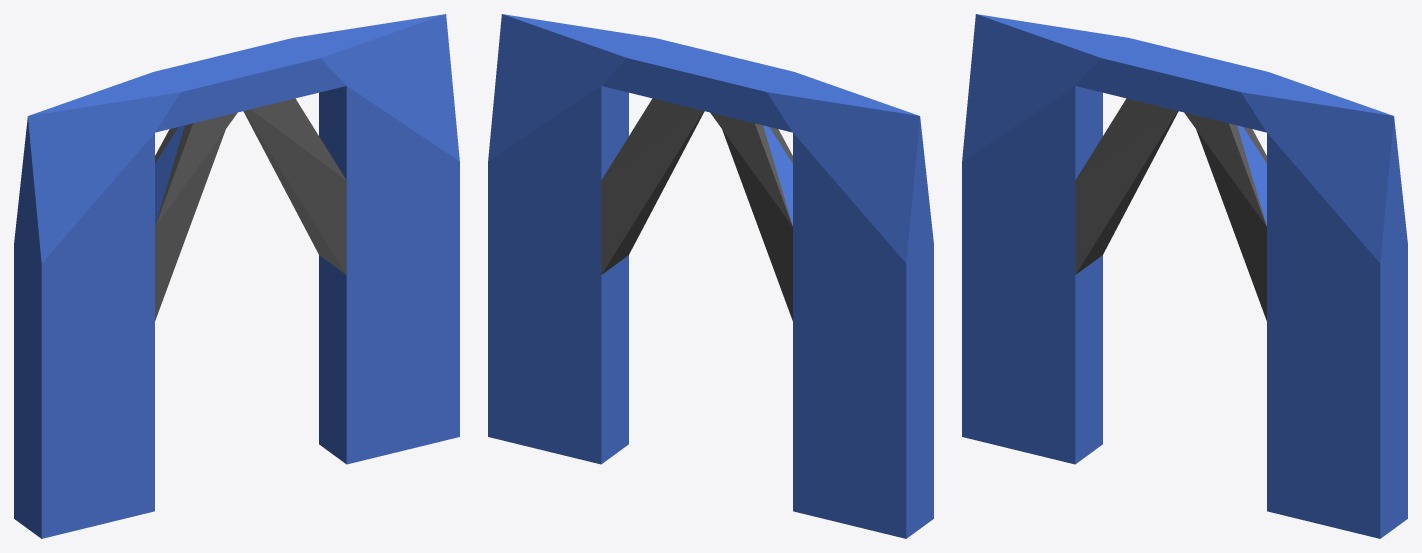
The model's file is block5.fbx.
The picture shows the model from 3 angles, left to right: view 1: azimuth 30°, elevation 25°; view 2: azimuth 150°, elevation 25°; view 3: azimuth 330°, elevation 25°; orthographic projection.
Parts seen in each view (by area): view 1: Cube.003; view 2: Cube.003; view 3: Cube.003.
Boxes of the visible parts, left/top/right/bottom form: Cube.003: left=14, top=14, right=459, bottom=538; Cube.003: left=488, top=14, right=933, bottom=538; Cube.003: left=962, top=14, right=1407, bottom=538.
Bounding box in the file's own units: 1428 × 1347 × 163.
